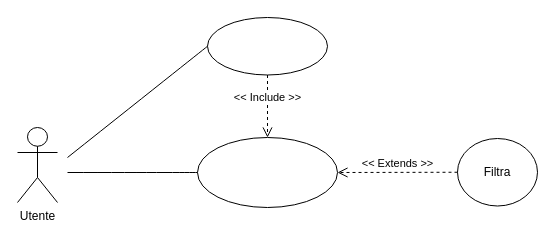
The diagram is 555 pixels wide and 241 high, and some of its shapes have lost their labels. Each missing label, with the centre of its shape:
Compra prodotto: pixel 267 45
Visualizza Catalogo: pixel 267 172
